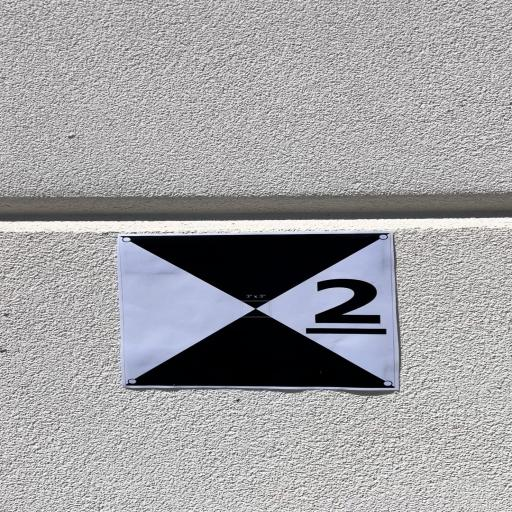target2: (120, 231, 398, 387)
